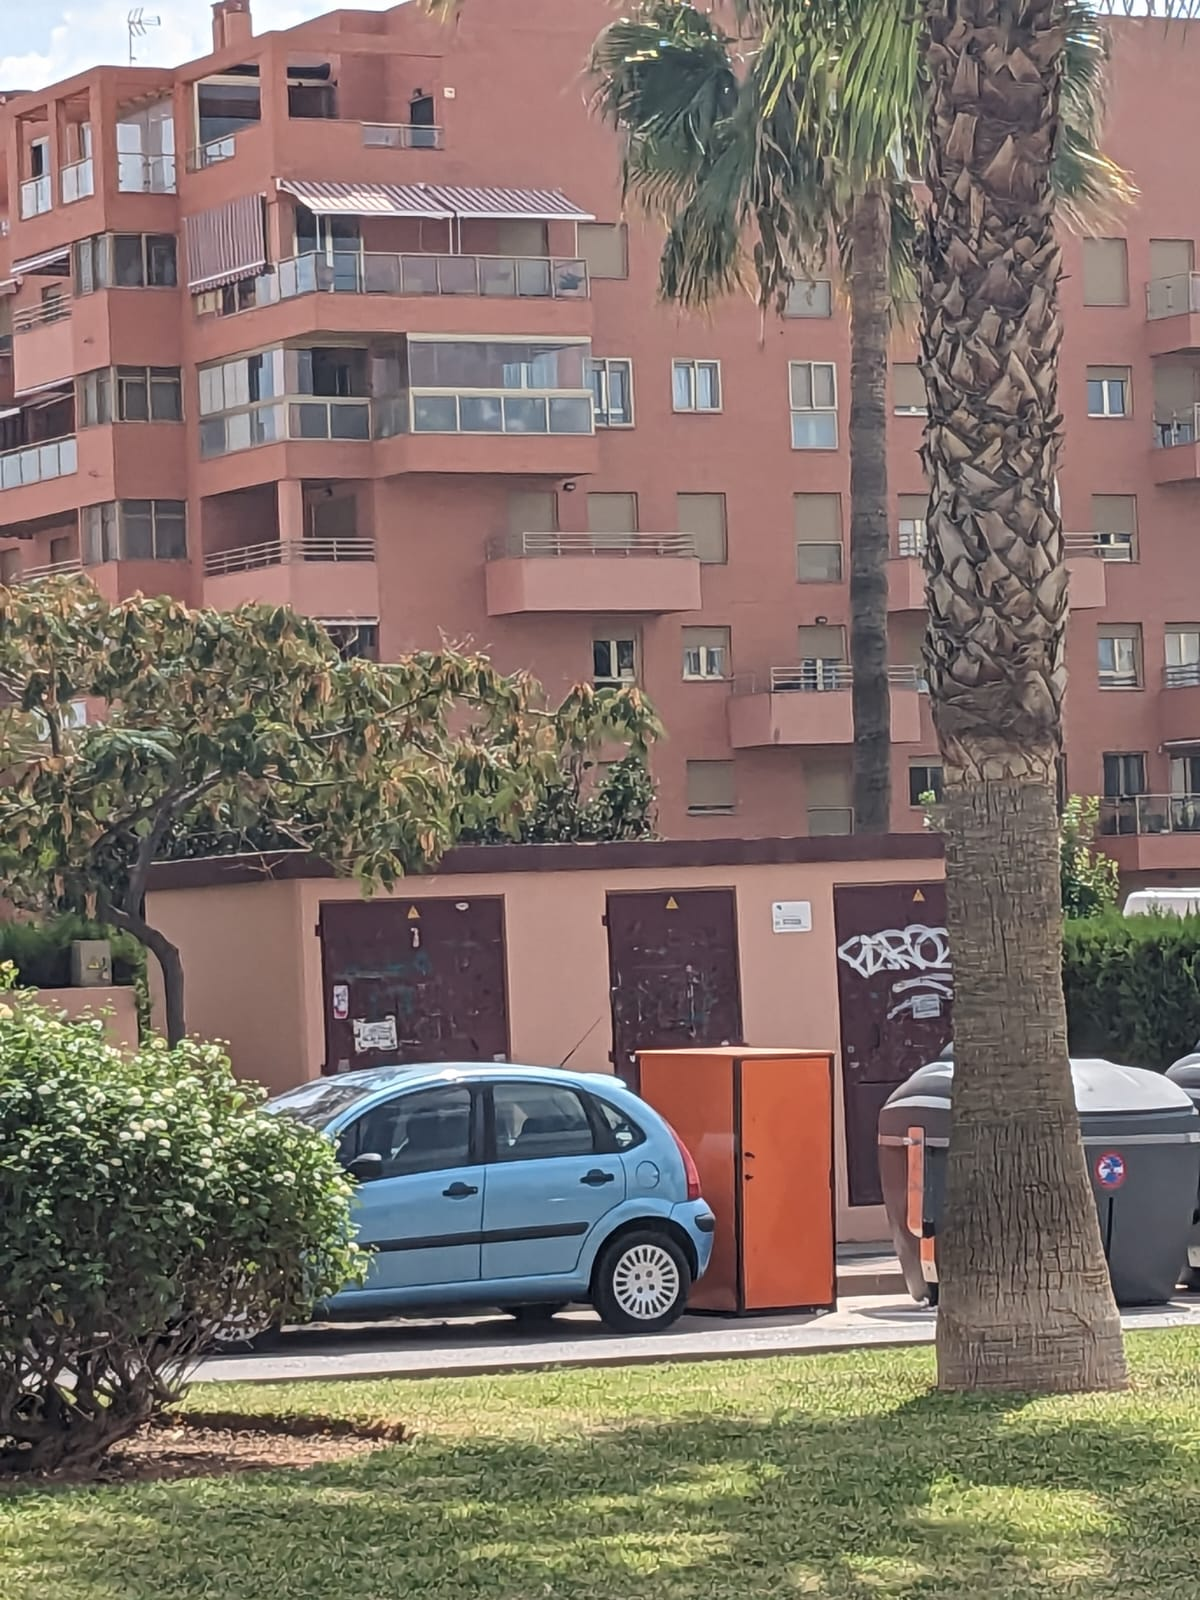car: (185, 1057, 729, 1325)
